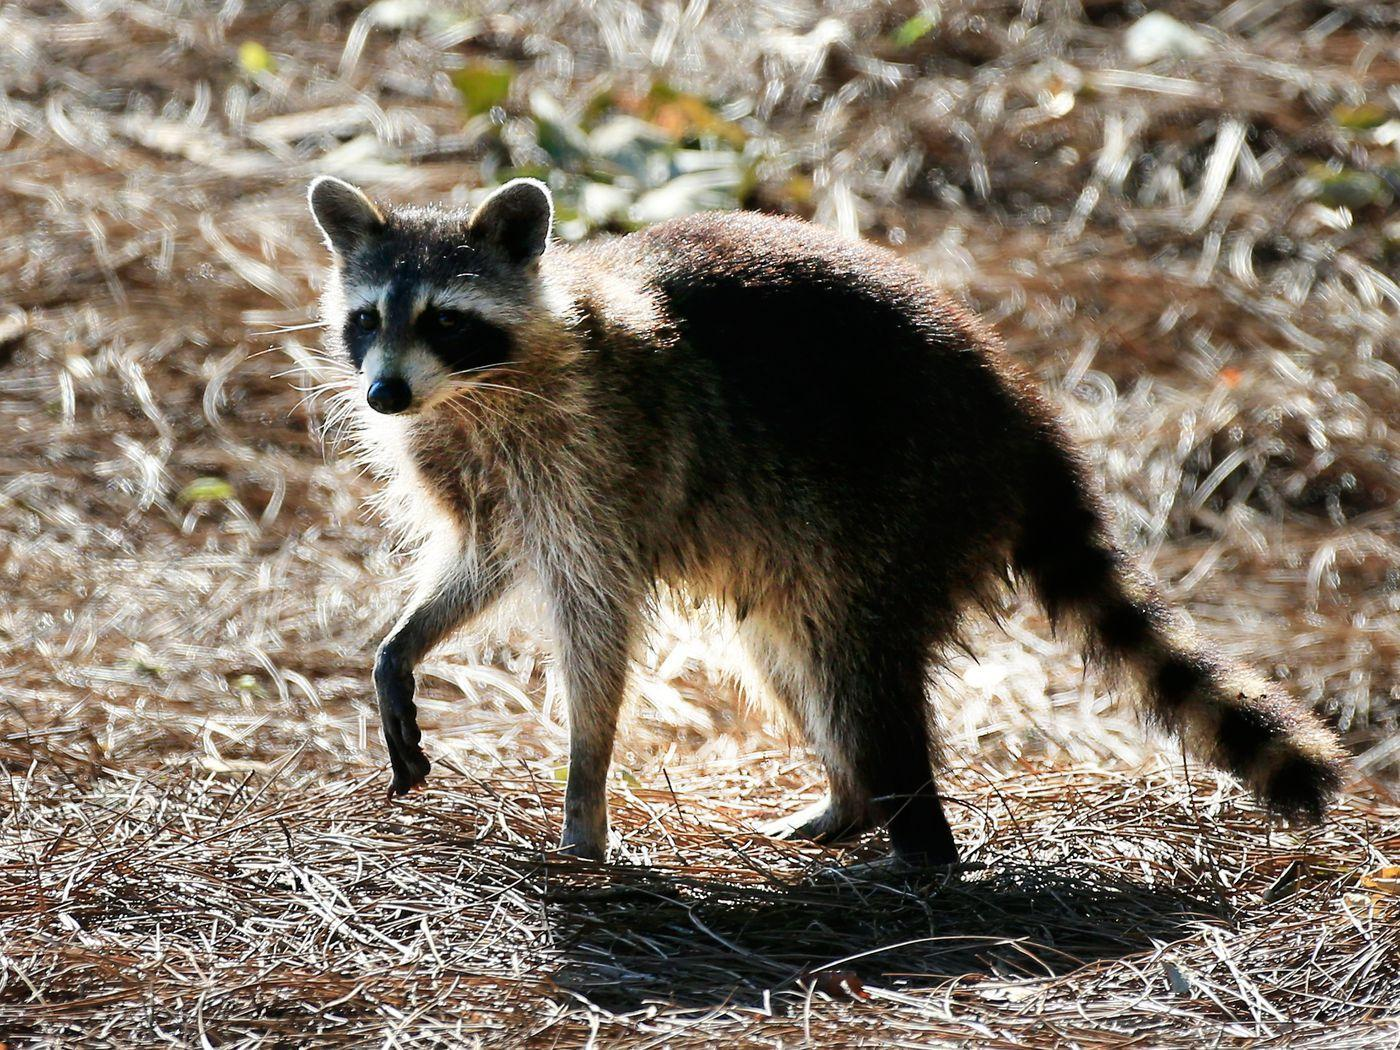raccoon: (301, 171, 1351, 886)
